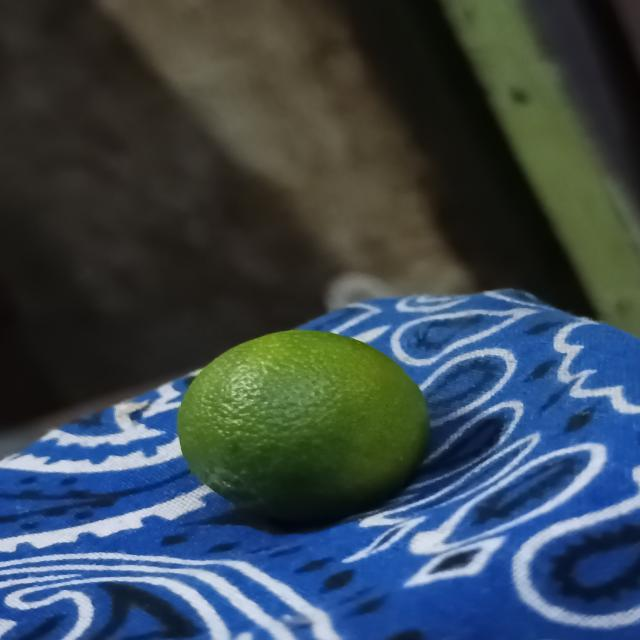heathy: (168, 325, 438, 528)
